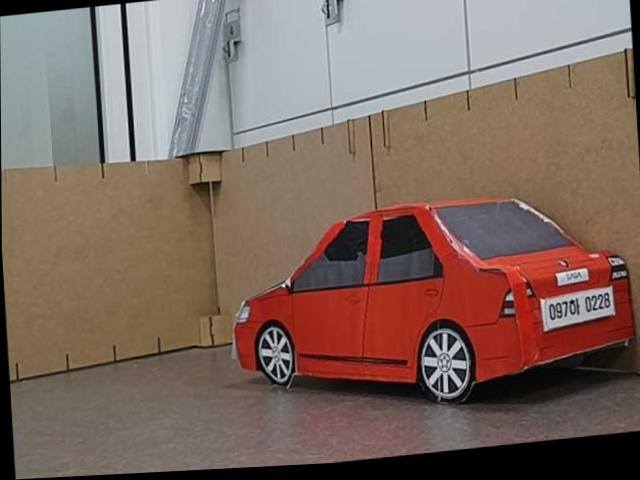car: (218, 173, 640, 427)
id: (537, 283, 621, 333)
